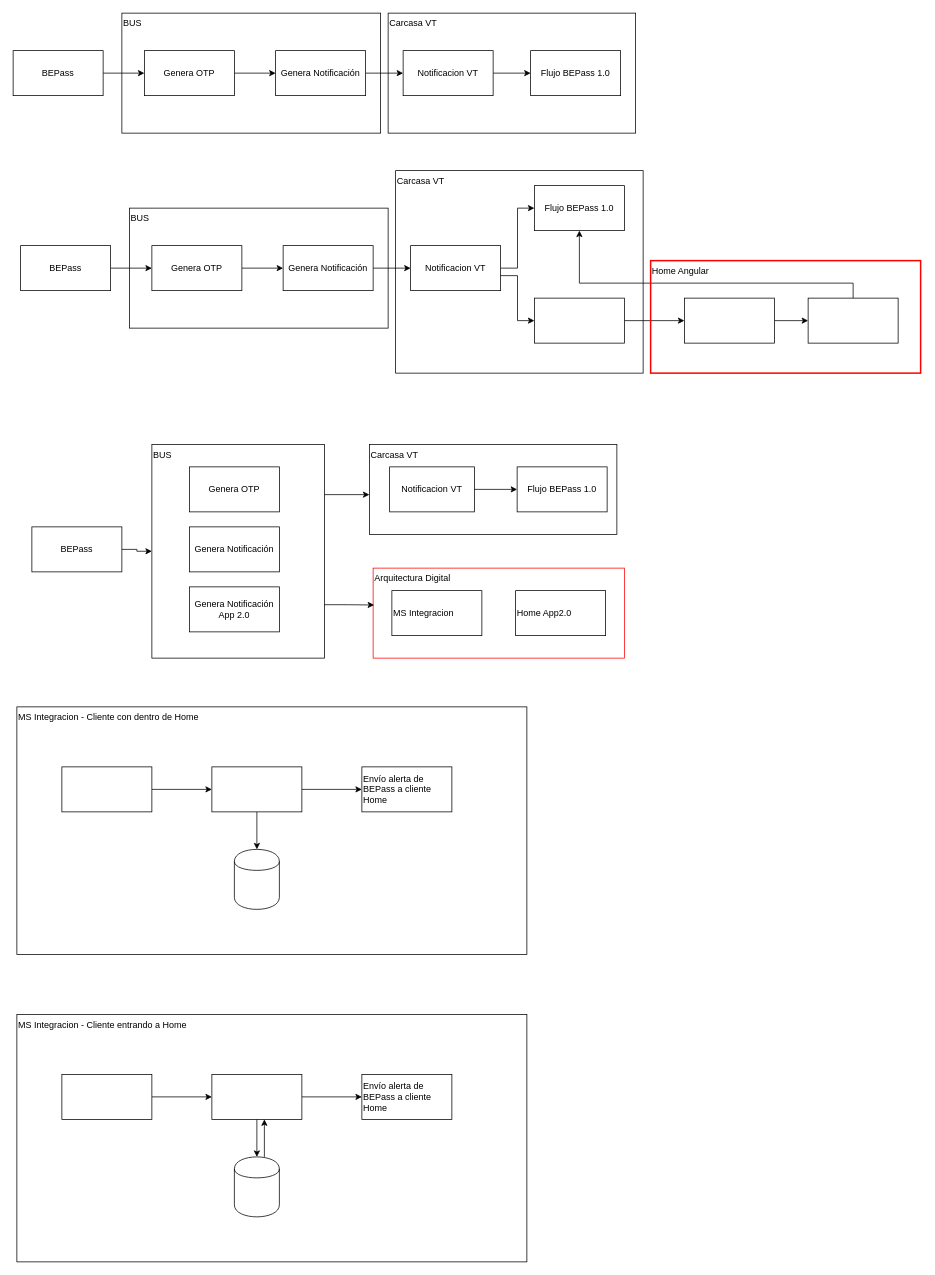
Image size: 935x1275. Some labels were removed from this diagram. The shapes that lost their labels are listed below. From the top down, each one's centre as x and y in pixels, then its label:
At (579,320): "Evento VT alerta BEPass".
At (729,320): "Consulta alerta BEPass".
At (852,320): "Despliegue alerta en Home".
At (106,789): "Recepción alerta BEPass".
At (256,789): "Guardado de alerta en BBDD con TTL".
At (106,1096): "Conexión de cliente Home".
At (256,1096): "Consulta por alertas a BBDD".
